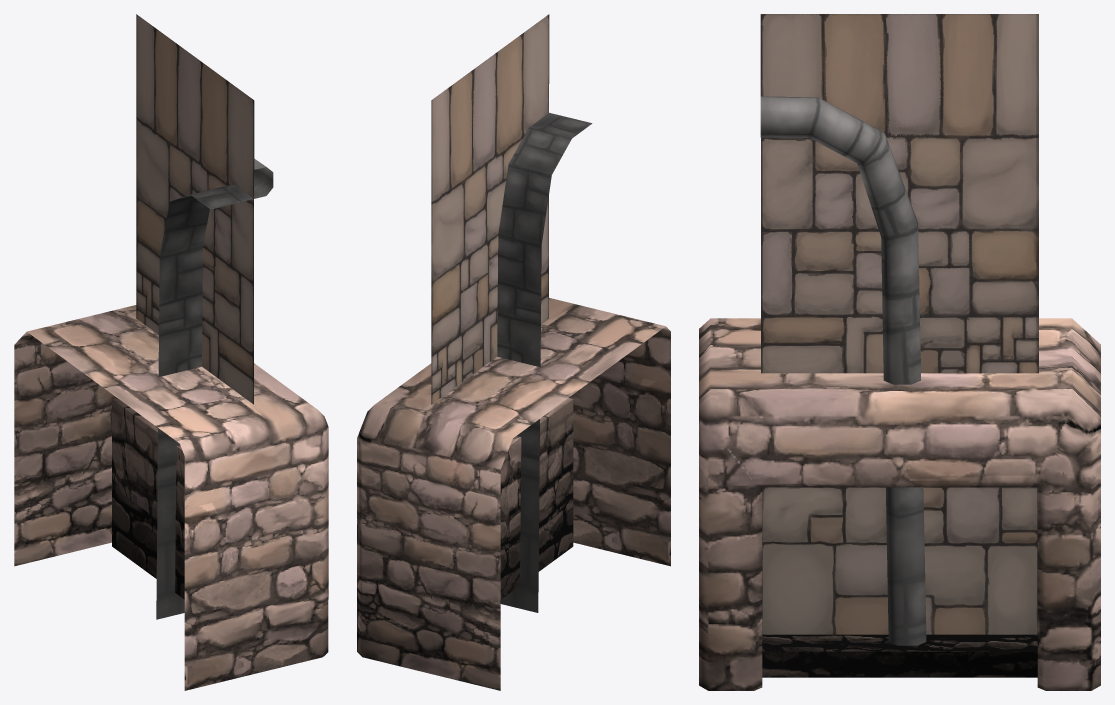
Rendered from Obj_estructuracastillo.fbx.
3 renders of one model, left to right at view 1: azimuth 30°, elevation 25°; view 2: azimuth 150°, elevation 25°; view 3: azimuth 270°, elevation 25°, orthographic. The views are drawn at different scales.
Parts seen in each view (by area): view 1: Obj_estructuracastillo_chimenea, Obj_estructuracastillo_Muro2, Obj_estructuracastillo_Muro; view 2: Obj_estructuracastillo_chimenea, Obj_estructuracastillo_Muro2, Obj_estructuracastillo_Muro; view 3: Obj_estructuracastillo_Muro2, Obj_estructuracastillo_chimenea, Obj_estructuracastillo_Muro.
Part boxes in pixels (x1,y1,x2,y2): Obj_estructuracastillo_chimenea: (14,305,328,690); Obj_estructuracastillo_Muro2: (136,14,273,619); Obj_estructuracastillo_Muro: (136,15,253,404); Obj_estructuracastillo_chimenea: (357,298,670,690); Obj_estructuracastillo_Muro2: (431,14,592,612); Obj_estructuracastillo_Muro: (431,43,548,402); Obj_estructuracastillo_Muro2: (760,14,1038,645); Obj_estructuracastillo_chimenea: (699,318,1100,690); Obj_estructuracastillo_Muro: (761,14,1038,634).
Bounding box in the file's own units: 1.27 × 4.5 × 2.53.
